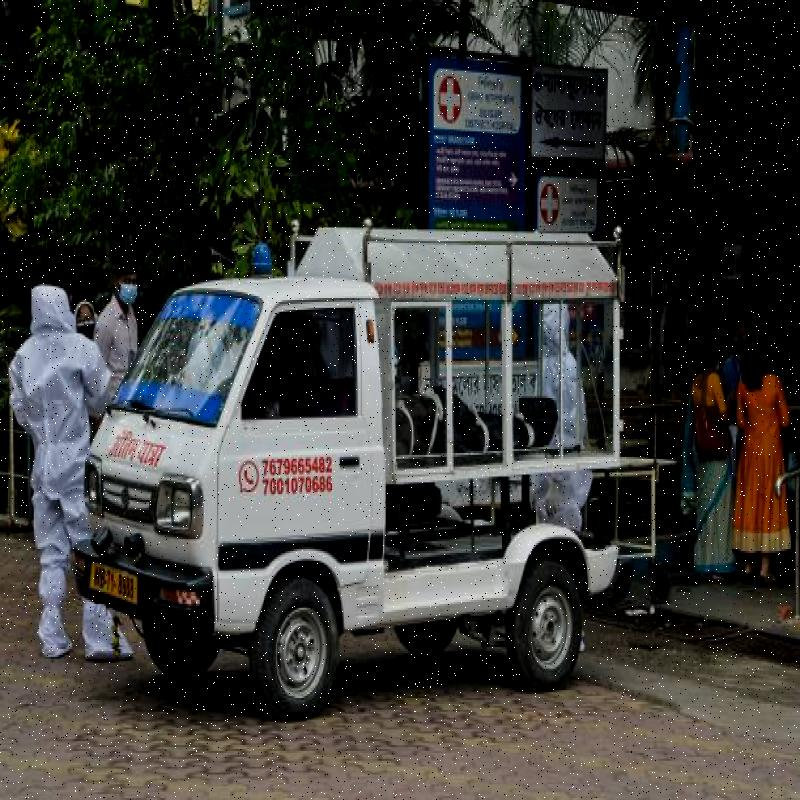ambulance: (92, 275, 638, 675)
